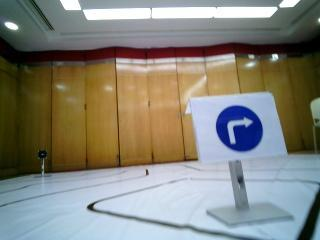right: (194, 97, 279, 154)
